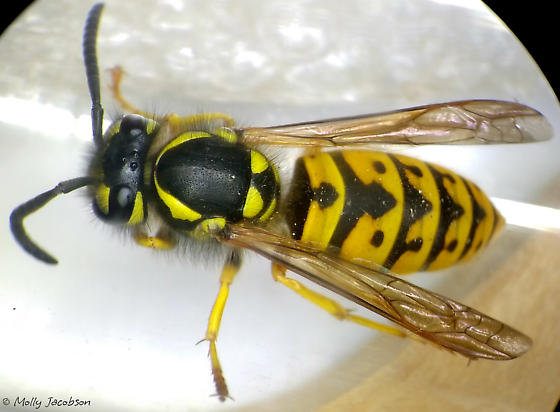chax: (2, 4, 551, 408)
